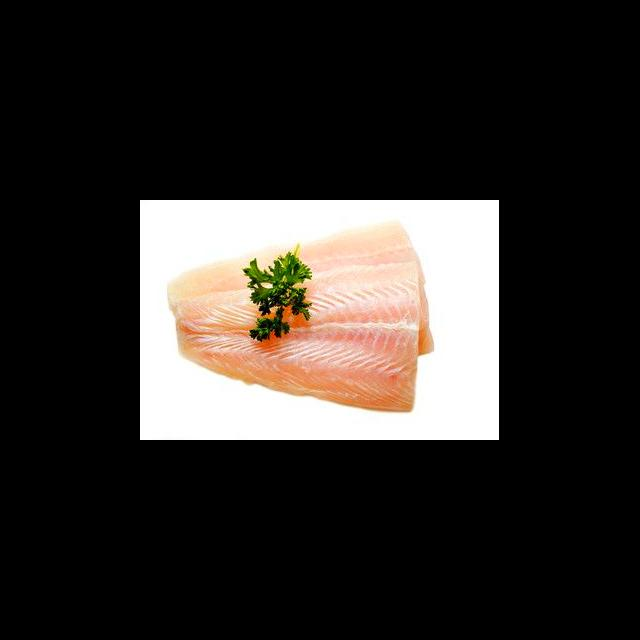fish: (166, 258, 431, 417)
